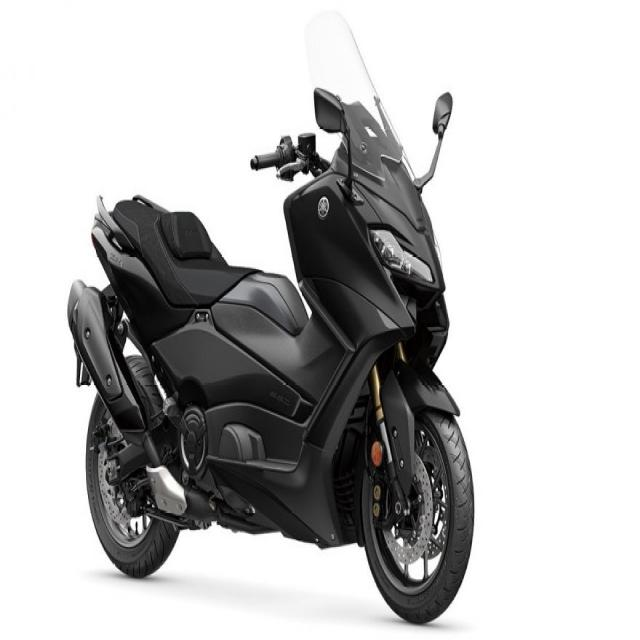Bike: (68, 13, 474, 622)
